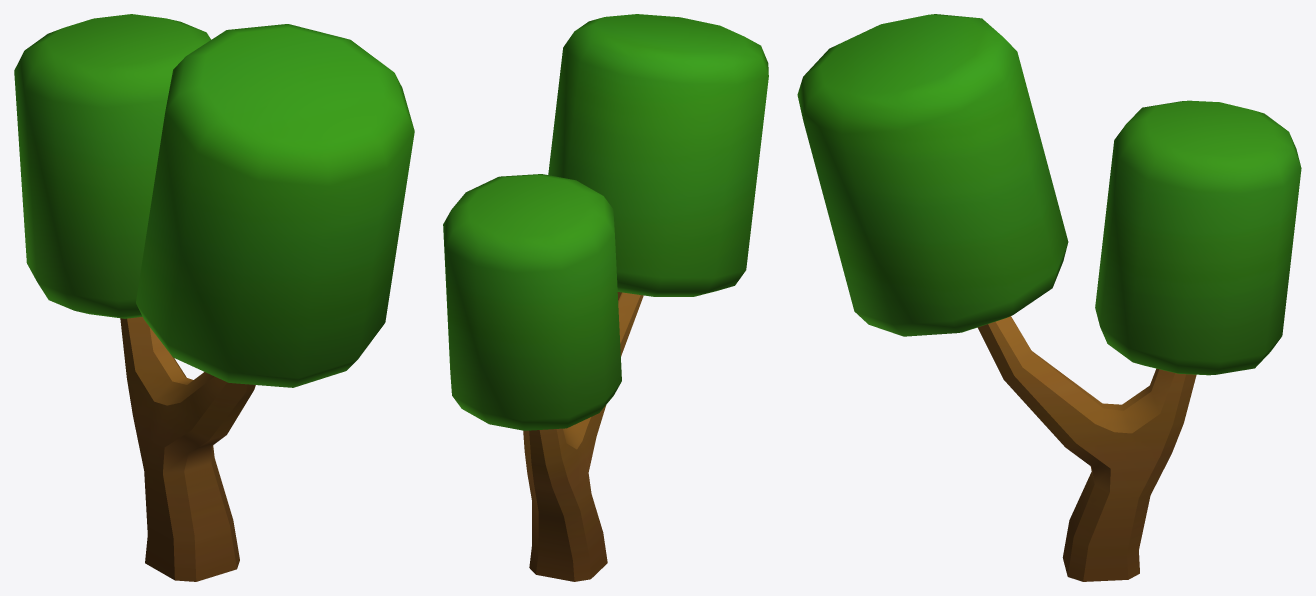
The model's file is Tree_C_2_.fbx.
3 renders of one model, left to right at view 1: azimuth 30°, elevation 25°; view 2: azimuth 150°, elevation 25°; view 3: azimuth 270°, elevation 25°, orthographic. The views are drawn at different scales.
Parts seen in each view (by area): view 1: Tree_C_2; view 2: Tree_C_2; view 3: Tree_C_2.
Part boxes in pixels (x1,y1,x2,y2): Tree_C_2: (14, 14, 414, 581); Tree_C_2: (443, 14, 768, 581); Tree_C_2: (797, 14, 1301, 581).
Size of the model in its own units: 169 by 431 by 376.
